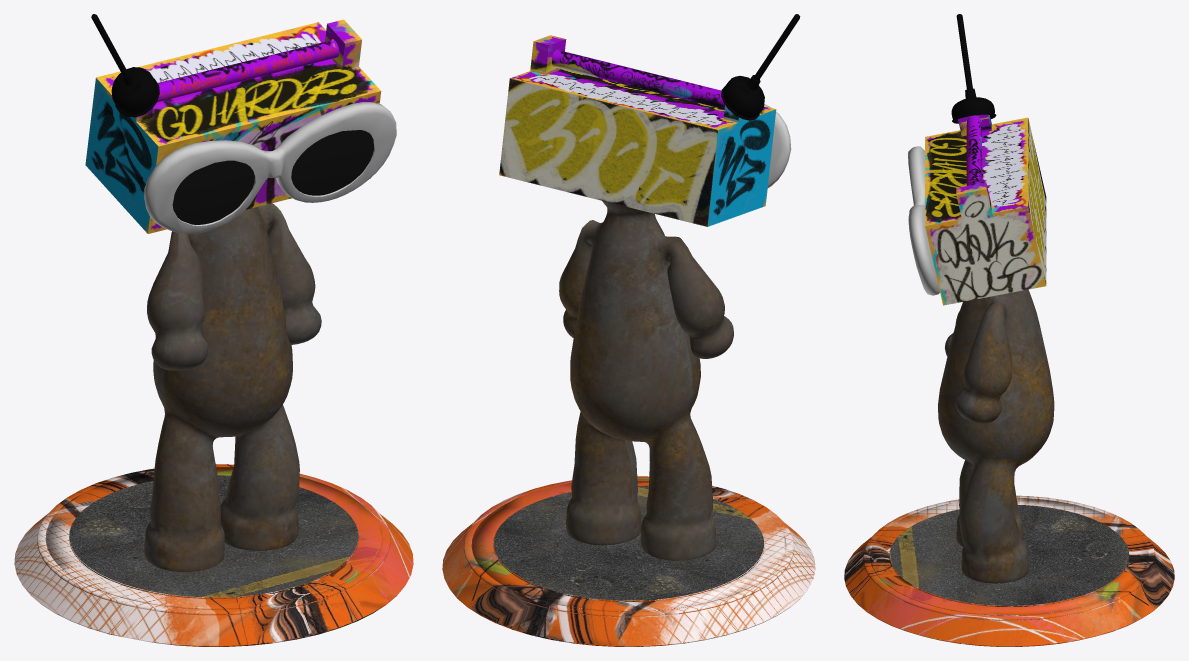
3 views of the same model, side by side, from view 1: azimuth 30°, elevation 25°; view 2: azimuth 150°, elevation 25°; view 3: azimuth 270°, elevation 25° (orthographic). The views are drawn at different scales.
Parts seen in each view (by area): view 1: BBody; view 2: BBody; view 3: BBody.
Part boxes in pixels (<box>): BBody: <box>14,14,413,646</box>; BBody: <box>442,14,815,646</box>; BBody: <box>844,14,1174,646</box>.
Size of the model in its own units: 1.45 by 2.43 by 1.45.
Materials: 8 (4 with a texture image).
